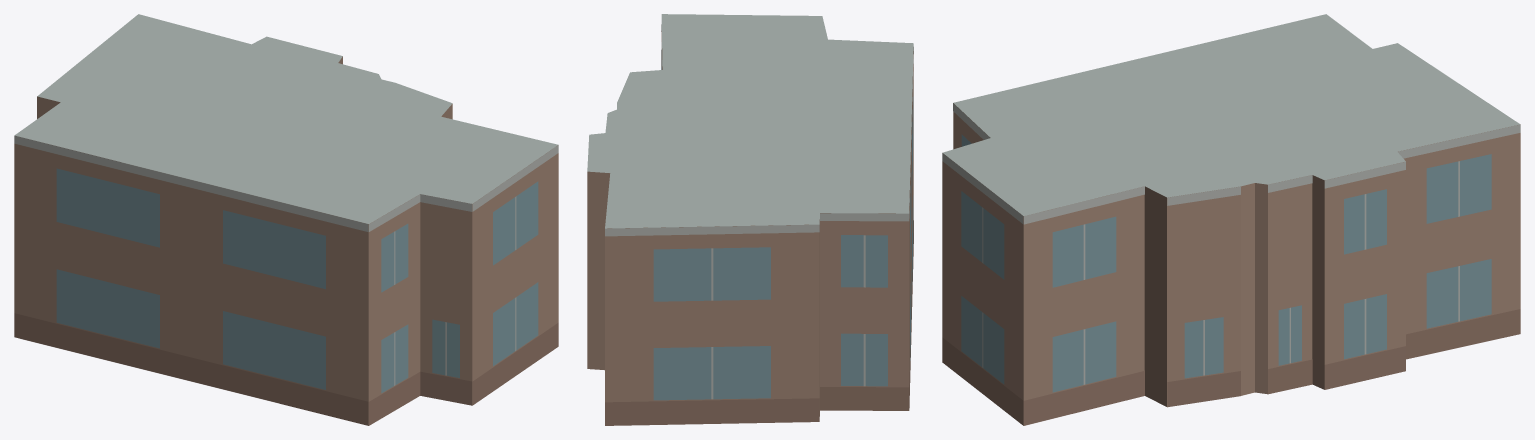
File: survey-upis-32650251.glb
The picture shows the model from 3 angles, left to right: view 1: azimuth 30°, elevation 25°; view 2: azimuth 150°, elevation 25°; view 3: azimuth 270°, elevation 25°; orthographic projection. The views are drawn at different scales.
Visible parts, largest first — view 1: survey-upis-32650251.tmp; view 2: survey-upis-32650251.tmp; view 3: survey-upis-32650251.tmp.
Part boxes in pixels (x1=…): survey-upis-32650251.tmp: x1=14, y1=14, x2=558, y2=425; survey-upis-32650251.tmp: x1=587, y1=14, x2=913, y2=425; survey-upis-32650251.tmp: x1=942, y1=14, x2=1520, y2=425.
Size of the model in its own units: 12.63 by 6.1 by 15.26.
